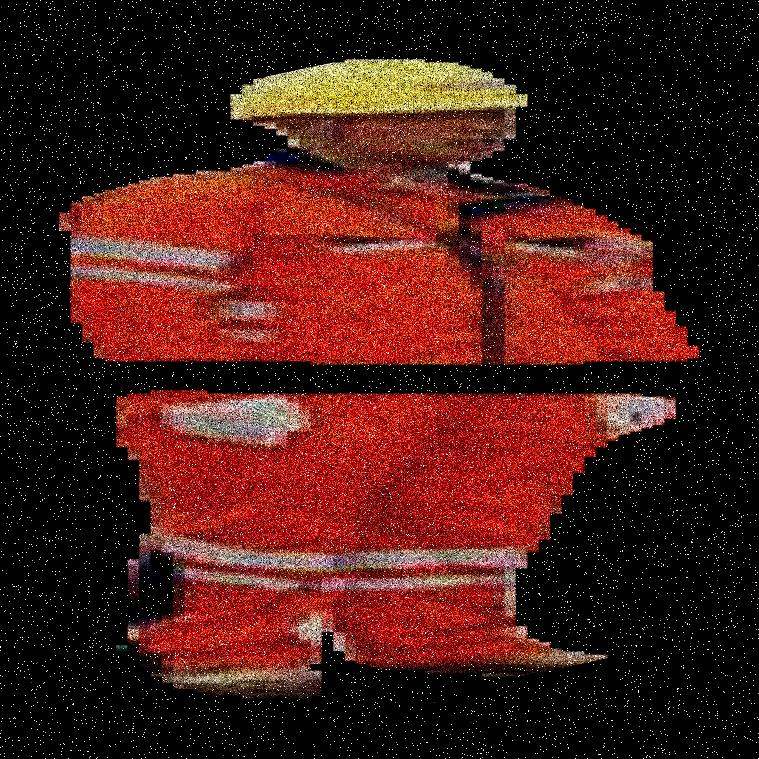Pessoa: (208, 0, 559, 758)
